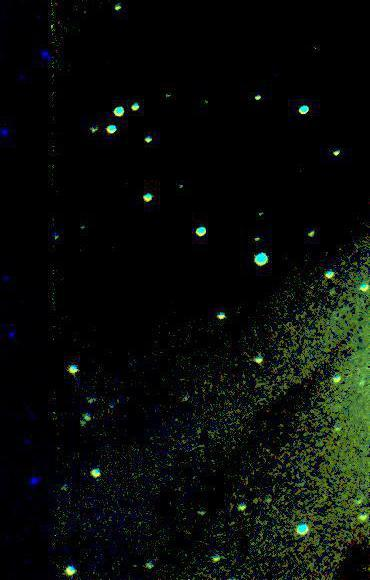star: (242, 484, 272, 514)
